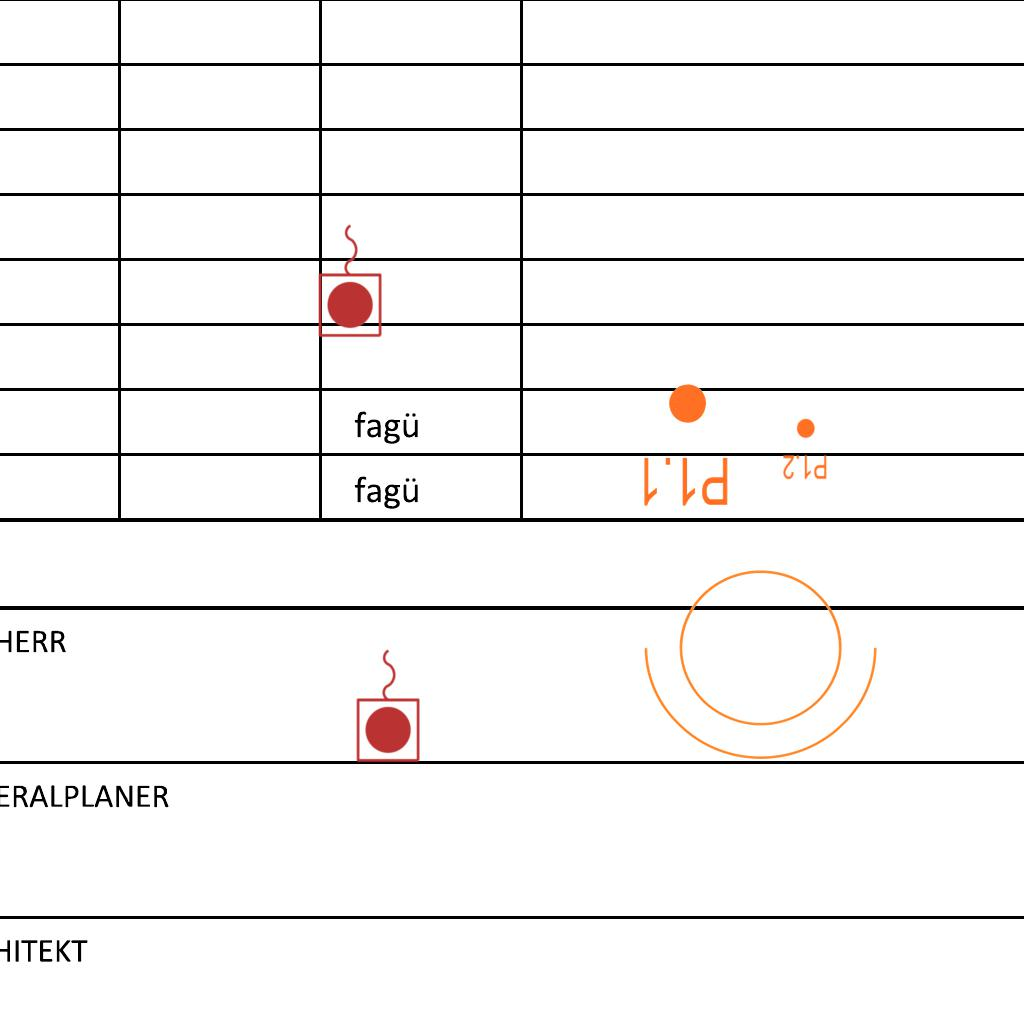Downlight_LED_Einbauleuchten_Flur: (638, 381, 731, 509), (782, 417, 828, 481)
Scheinwerfer_fuer_Alarmbeleuchtung: (635, 545, 899, 770)
Zugtaster: (353, 644, 425, 766), (315, 219, 387, 341)
